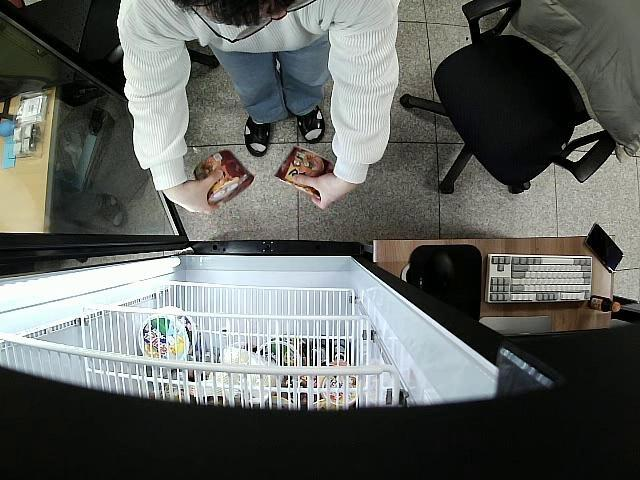05_nuguri_L: (193, 149, 254, 204), (276, 146, 336, 200)
